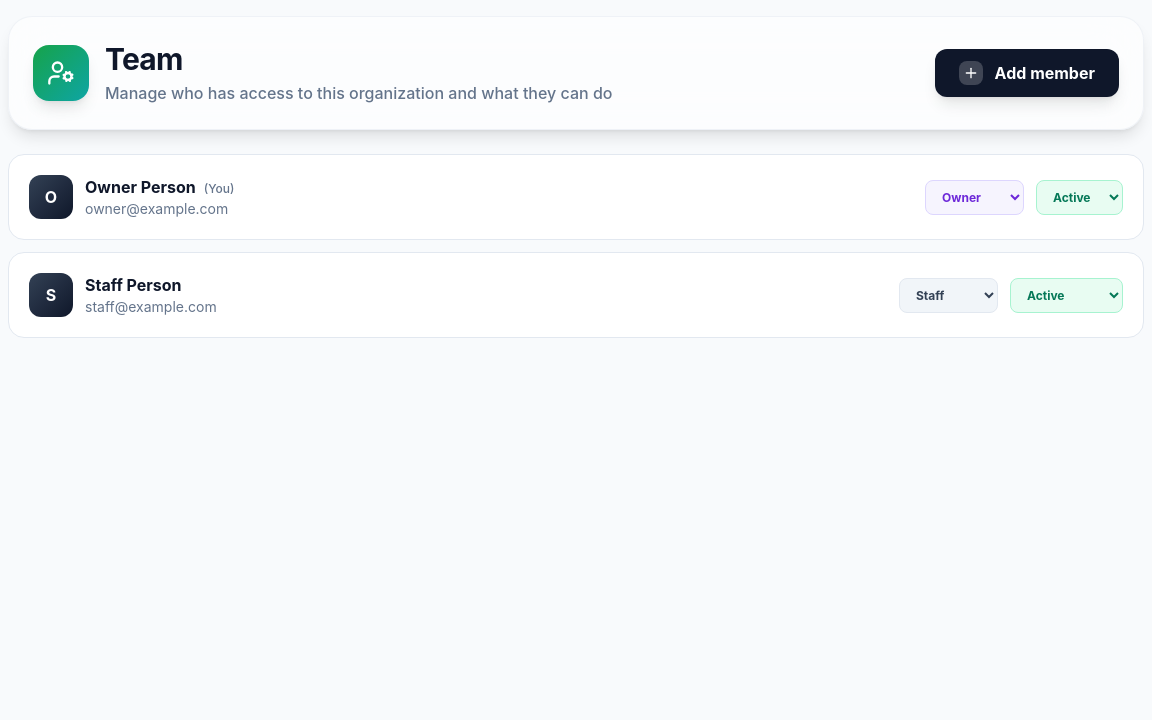
Test case: TeamManagement › confirms before suspending a member, and does nothing on cancel
The image size is (1152, 720).
Expected: the text "Staff Person" is shown, [85, 275, 182, 295]
Select "Suspended" in the dropdown named "change status for staff person" at (1066, 295), box [1010, 278, 1123, 312]
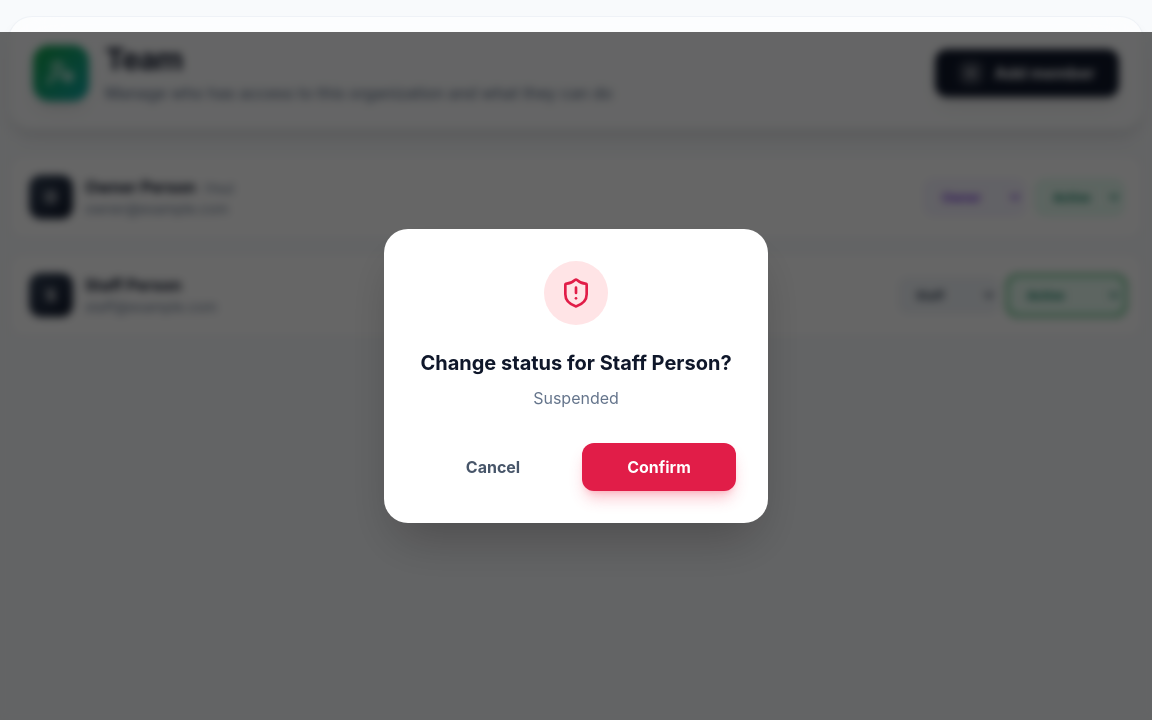
Now the dialog is shown, box [384, 229, 768, 523]
Click the button "Cancel".
click(493, 467)  # box [416, 443, 570, 491]
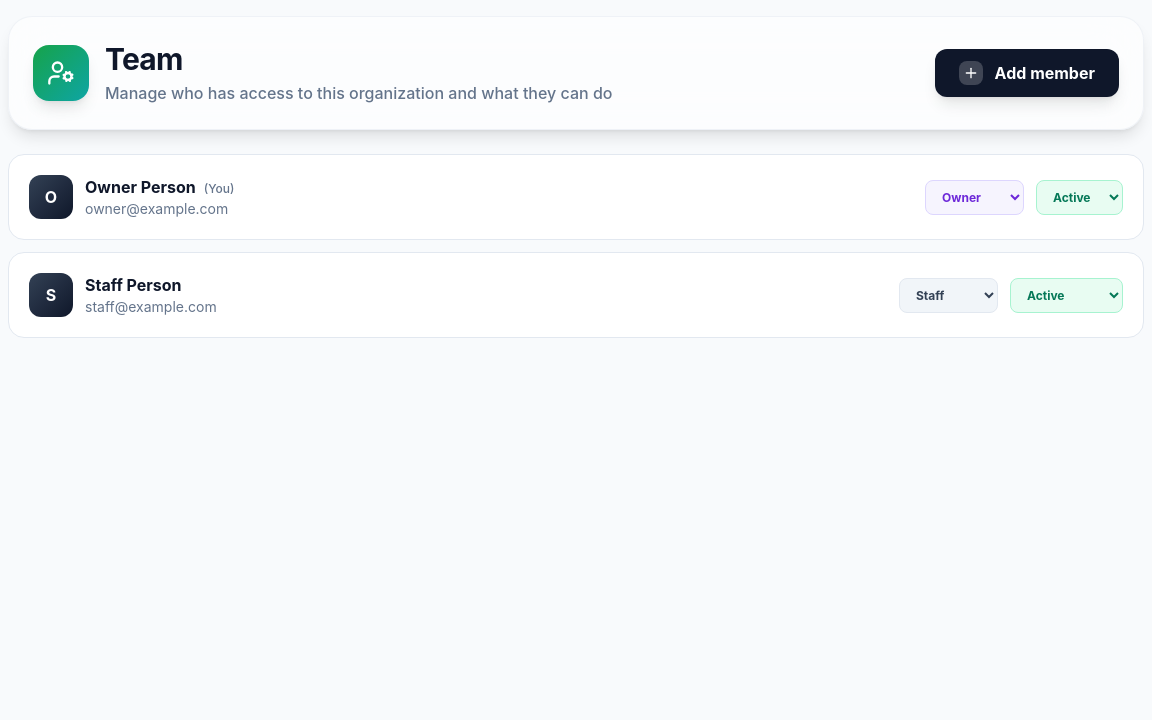
Now the dialog is gone
